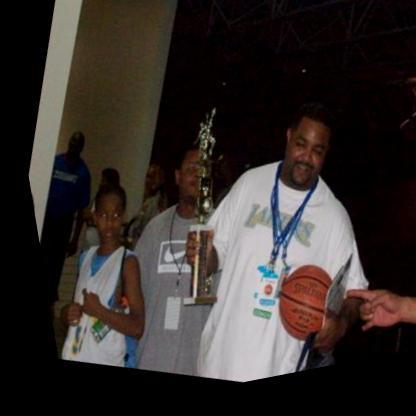basketball: (247, 259, 339, 363)
